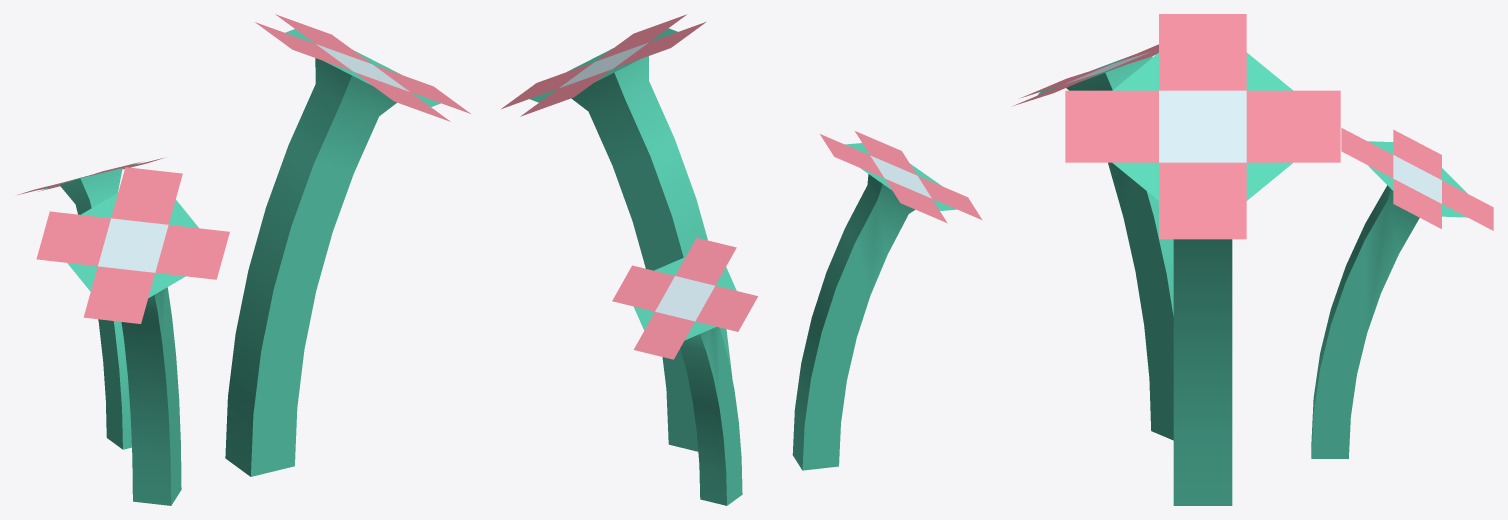
Rendered from flowers.glb.
The picture shows the model from 3 angles, left to right: view 1: azimuth 30°, elevation 25°; view 2: azimuth 150°, elevation 25°; view 3: azimuth 270°, elevation 25°; orthographic projection. The views are drawn at different scales.
Parts seen in each view (by area): view 1: flowers; view 2: flowers; view 3: flowers.
Boxes of the visible parts, <box> form: flowers: <box>18,14,470,505</box>; flowers: <box>501,14,982,505</box>; flowers: <box>1012,14,1493,505</box>.
Size of the model in its own units: 0.4975 by 0.464 by 0.4168.
